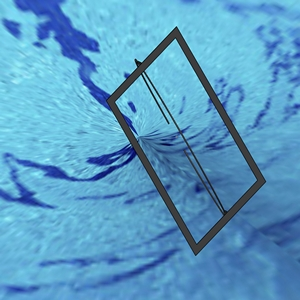circle: (105, 23, 264, 255)
